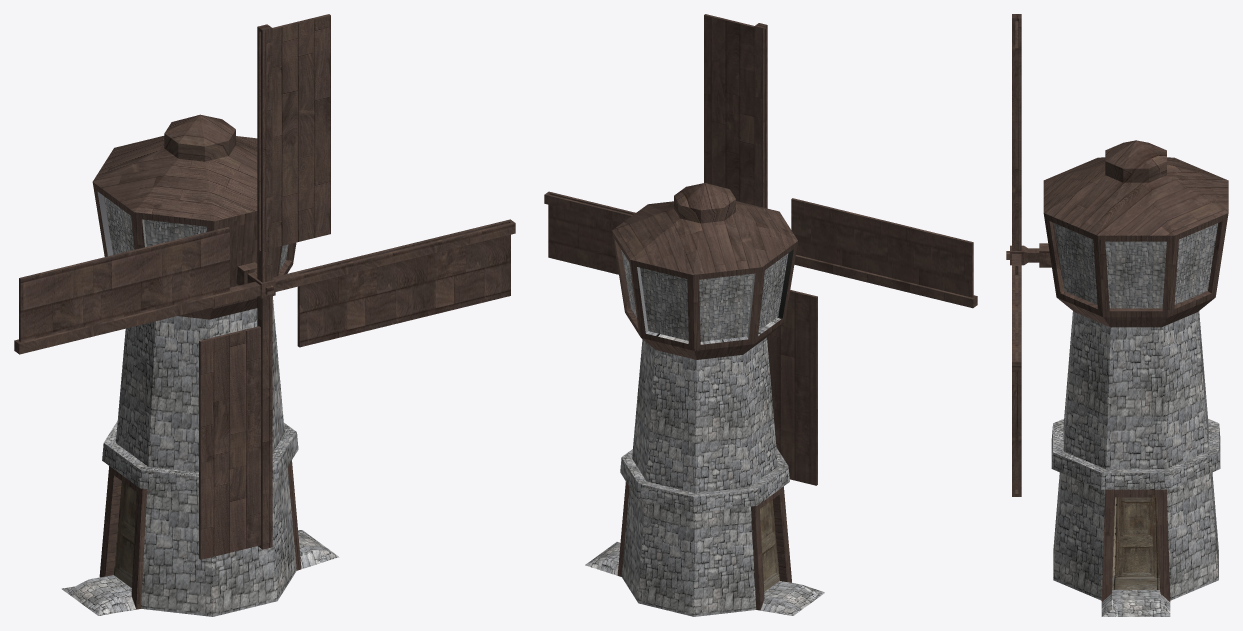
Rendered from Windmill1fbx.fbx.
3 views of the same model, side by side, from view 1: azimuth 30°, elevation 25°; view 2: azimuth 150°, elevation 25°; view 3: azimuth 270°, elevation 25° (orthographic). The views are drawn at different scales.
Visible parts, largest first — view 1: Windrad, Turm; view 2: Turm, Windrad; view 3: Turm, Windrad.
Boxes of the visible parts, x1,y1,x2,y2 form: Windrad: (14,14,515,559); Turm: (61,114,339,616); Turm: (585,183,824,616); Windrad: (544,14,977,485); Turm: (1043,140,1228,616); Windrad: (1006,14,1051,496).
Size of the model in its own units: 589 by 676 by 248.
